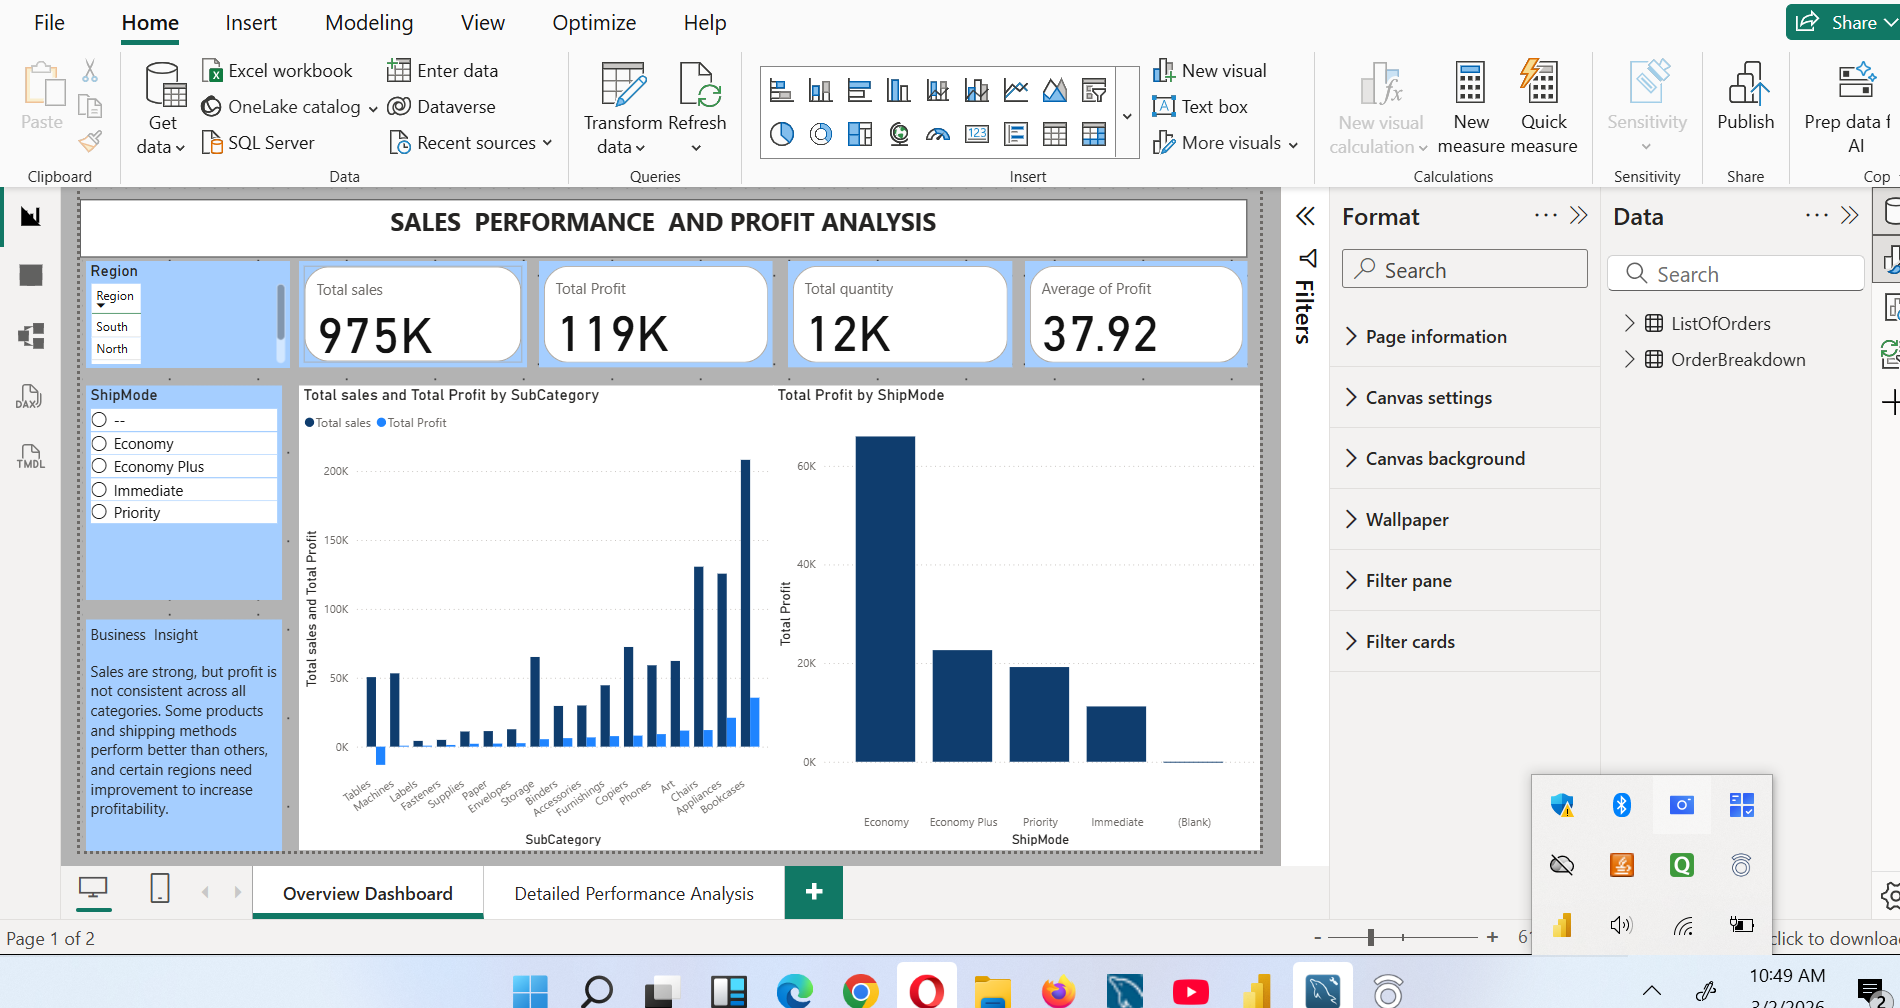

This screenshot's page, from the dashboard's own definition file:
{"tool":"powerbi","page":{"name":"Overview Dashboard","canvas":[1280,720],"ordinal":0},"visuals":[{"type":"cardVisual","fields":{"Data":["OrderBreakdown.Total sales"]},"box":[237,81,247.1,115.4],"z":0},{"type":"cardVisual","fields":{"Data":["OrderBreakdown.Total Profit"]},"box":[498.2,81,253.2,115.4],"z":1000},{"type":"cardVisual","fields":{"Data":["OrderBreakdown.Total quantity"]},"box":[767.6,81,243,115.4],"z":2000},{"type":"cardVisual","fields":{"Data":["Avg(OrderBreakdown.Profit)"]},"box":[1024.8,81,241,115.4],"z":3000},{"type":"clusteredColumnChart","fields":{"Category":["OrderBreakdown.SubCategory"],"Y":["OrderBreakdown.Total sales","OrderBreakdown.Total Profit"]},"box":[237,216.7,514.4,504.3],"z":4000},{"type":"clusteredColumnChart","fields":{"Category":["ListOfOrders.ShipMode"],"Y":["OrderBreakdown.Total Profit"]},"box":[751.4,216.7,528.6,504.3],"z":5000},{"type":"textbox","box":[0,14.2,1265.8,62.8],"z":6000},{"type":"tableEx","title":"Region","fields":{"Values":["ListOfOrders.Region"]},"box":[6.1,81,220.8,115.4],"z":7000},{"type":"listSlicer","fields":{"Values":["ListOfOrders.ShipMode"]},"box":[6.1,216.7,212.7,232.9],"z":8000},{"type":"textbox","box":[6.1,469.9,212.7,251.1],"z":9000}]}

Visuals, with their boxes on the page's 1280x720 design canvas (x1, y1, x2, y2). These are canvas units, not pixel positions in the 1900x1008 screenshot, which may show the page scaled, cropped or inside an application window:
cardVisual - OrderBreakdown.Total sales: box(237, 81, 484, 196)
cardVisual - OrderBreakdown.Total Profit: box(498, 81, 751, 196)
cardVisual - OrderBreakdown.Total quantity: box(768, 81, 1011, 196)
cardVisual - Avg(OrderBreakdown.Profit): box(1025, 81, 1266, 196)
clusteredColumnChart - OrderBreakdown.SubCategory x OrderBreakdown.Total sales: box(237, 217, 751, 721)
clusteredColumnChart - ListOfOrders.ShipMode x OrderBreakdown.Total Profit: box(751, 217, 1280, 721)
textbox: box(0, 14, 1266, 77)
"Region" tableEx: box(6, 81, 227, 196)
listSlicer - ListOfOrders.ShipMode: box(6, 217, 219, 450)
textbox: box(6, 470, 219, 721)
